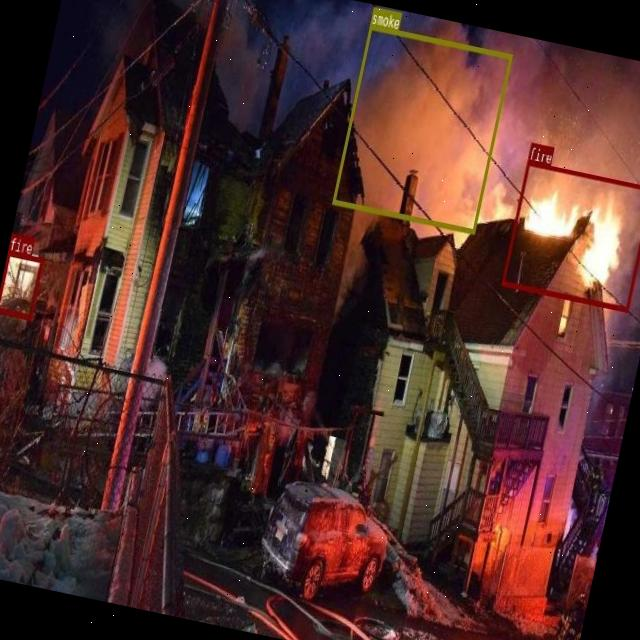fire: (500, 159, 640, 310), (0, 249, 44, 317)
smoke: (332, 23, 512, 233)
